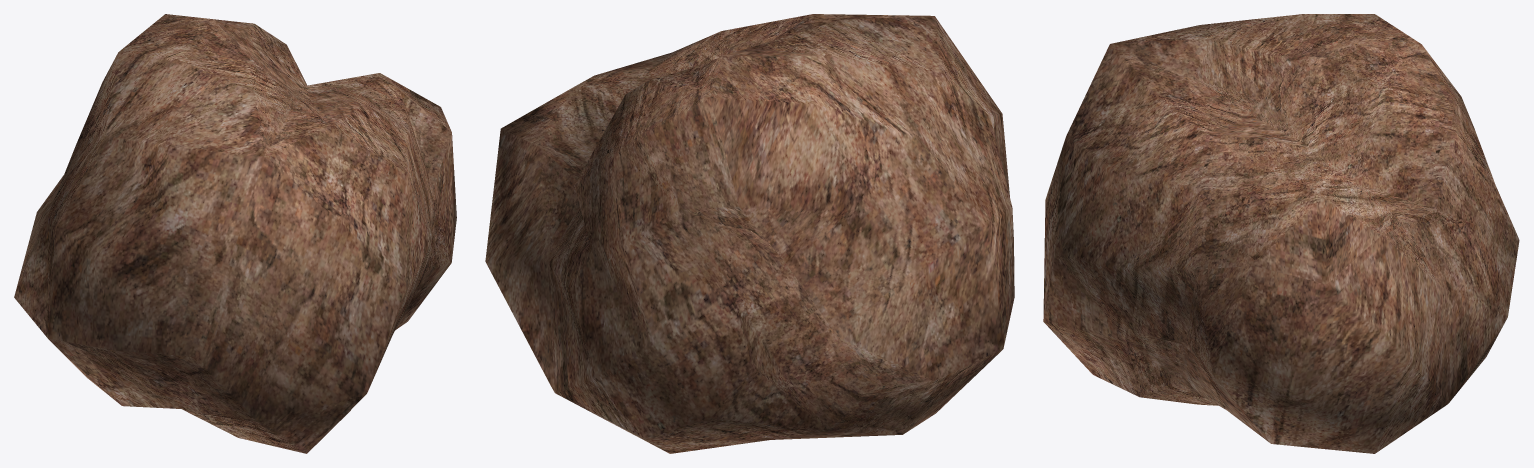
The model's file is rock_dath_desertboulder_l1.fbx.
3 renders of one model, left to right at view 1: azimuth 30°, elevation 25°; view 2: azimuth 150°, elevation 25°; view 3: azimuth 270°, elevation 25°, orthographic. The views are drawn at different scales.
Visible parts, largest first — view 1: mesh_node; view 2: mesh_node; view 3: mesh_node.
Part boxes in pixels (bbox=[...]): mesh_node: bbox=[14, 14, 456, 453]; mesh_node: bbox=[485, 14, 1014, 453]; mesh_node: bbox=[1043, 14, 1519, 453].
Bounding box in the file's own units: 1.62 × 1.27 × 1.51.
